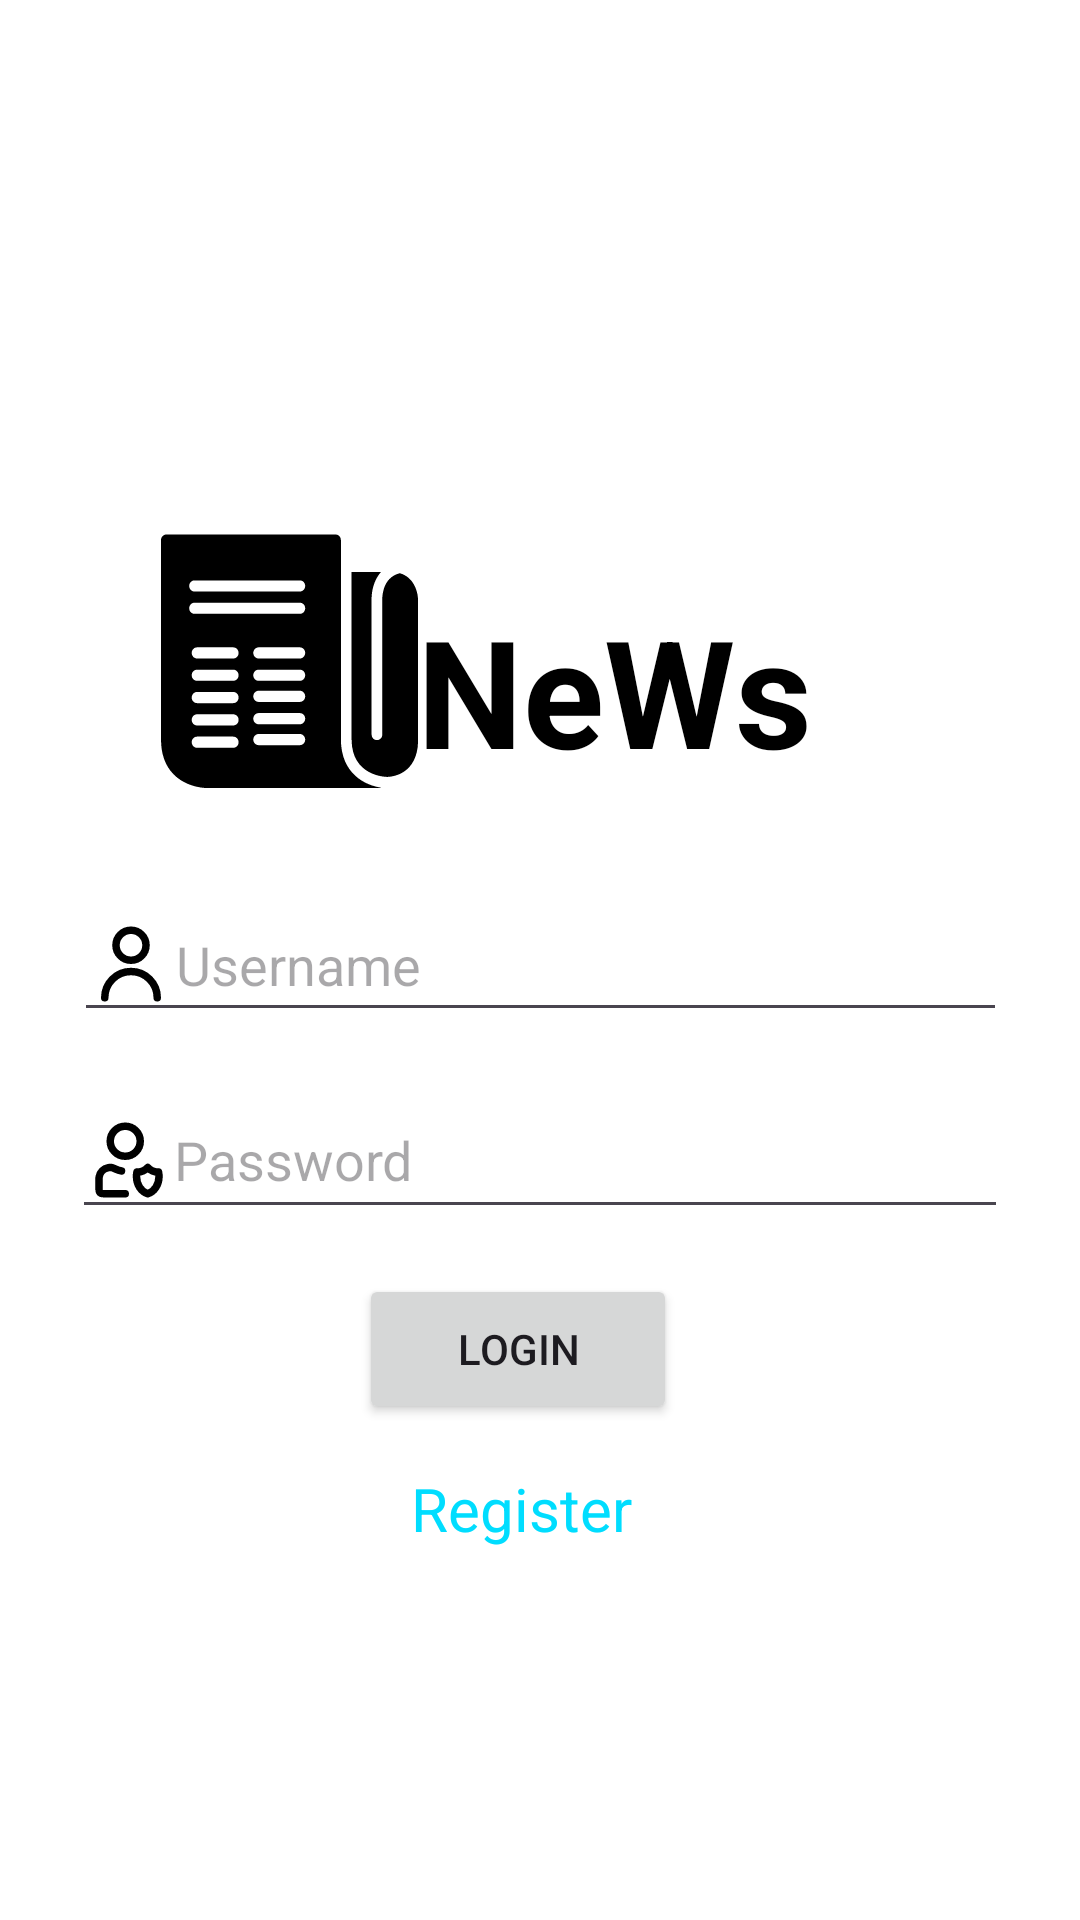

Named icons in this screenshot (1080×1920) and their centers, (x,y):
appicon: (289,661)
